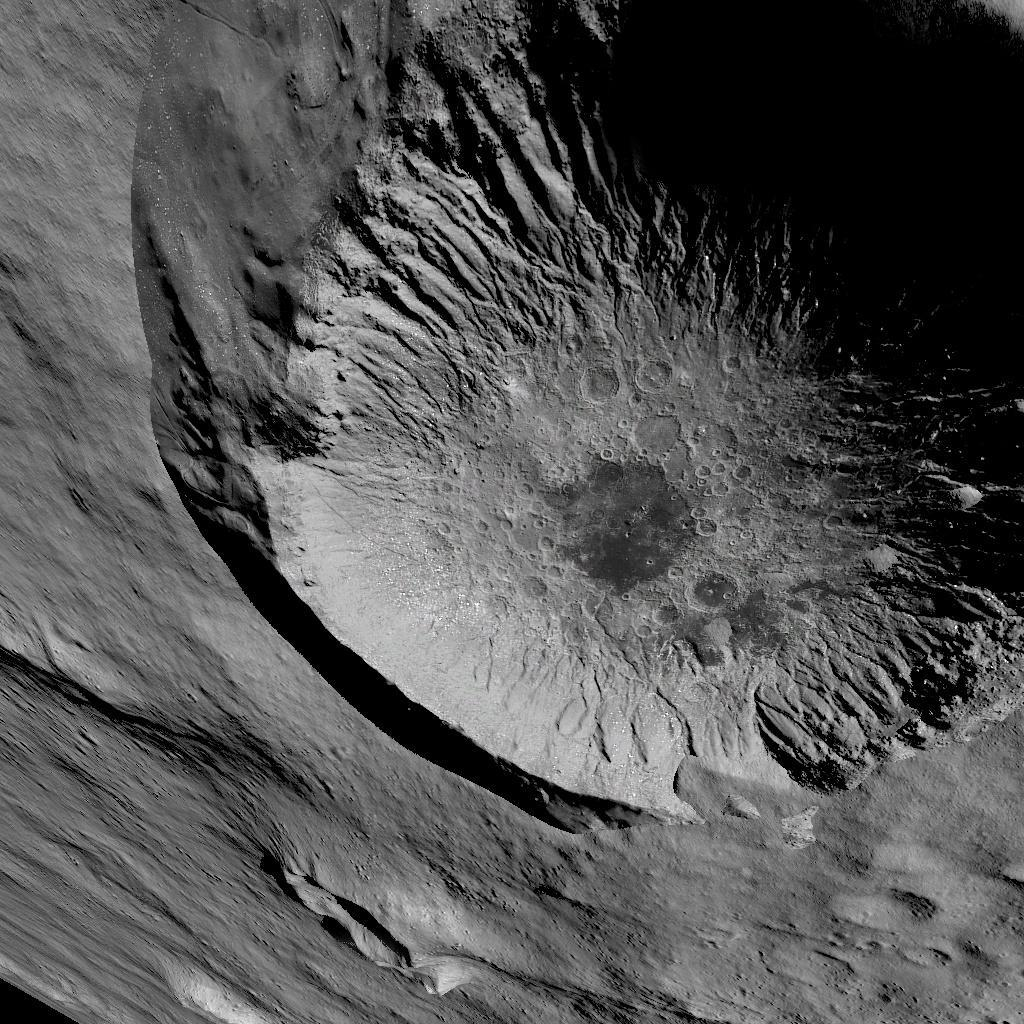Crater: (112, 2, 1023, 848), (234, 863, 428, 1013)
Plan surface: (480, 883, 1024, 1024)
